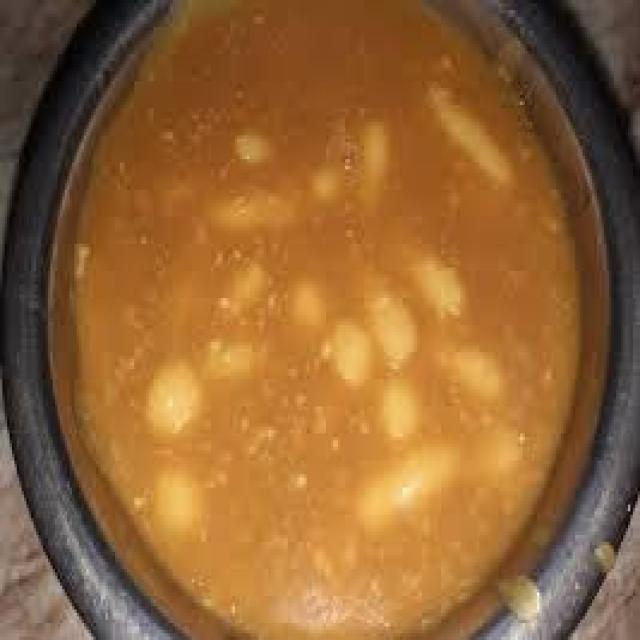paal kolukattai: (98, 0, 545, 602)
